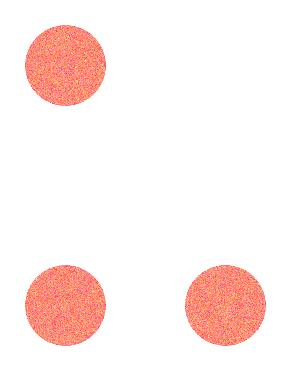U: (18, 17, 270, 350)
